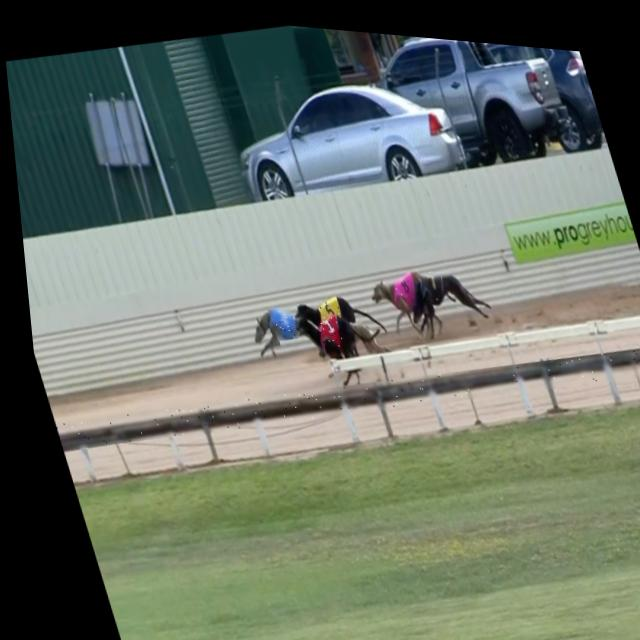dog_eight: (384, 262, 412, 299)
dog_five: (309, 290, 336, 318)
dog_four: (262, 300, 293, 337)
dog_one: (308, 308, 338, 344)
dog_seven: (415, 261, 439, 297)
rail: (50, 337, 640, 450)
